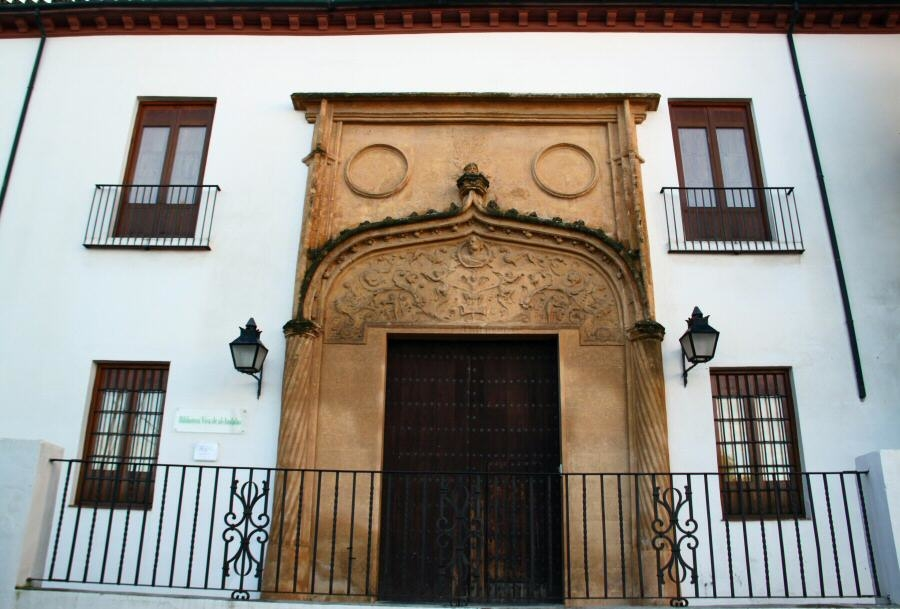arco-conopial: (309, 191, 632, 278)
